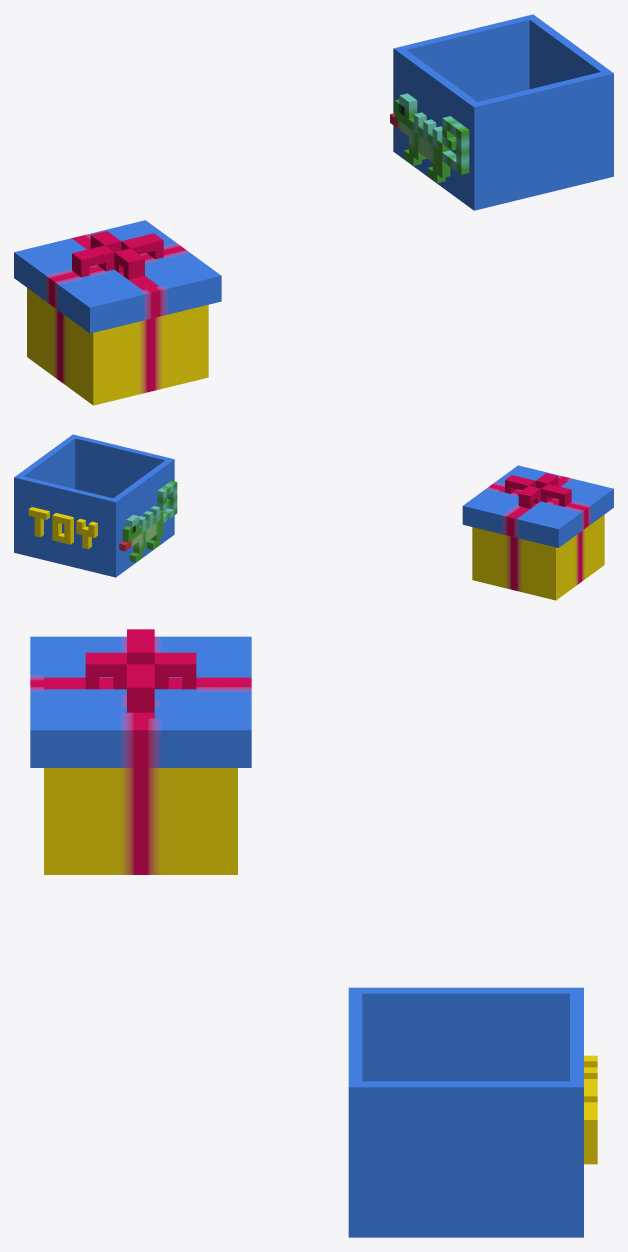
The picture shows the model from 3 angles, top to bottom: view 1: azimuth 30°, elevation 25°; view 2: azimuth 150°, elevation 25°; view 3: azimuth 270°, elevation 25°; orthographic projection. The views are drawn at different scales.
Parts seen in each view (by area): view 1: ToyBox, GiftBox; view 2: ToyBox, GiftBox; view 3: ToyBox, GiftBox.
Boxes of the visible parts, left/top/right/bottom form: ToyBox: left=390, top=14, right=613, bottom=210; GiftBox: left=14, top=220, right=221, bottom=405; ToyBox: left=14, top=434, right=177, bottom=577; GiftBox: left=462, top=465, right=613, bottom=600; ToyBox: left=348, top=987, right=597, bottom=1237; GiftBox: left=30, top=629, right=251, bottom=874.
Size of the model in its own units: 77 by 14 by 41.
1 material, 1 textured.
